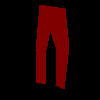abbigliamento_uomo: (35, 4, 69, 89)
